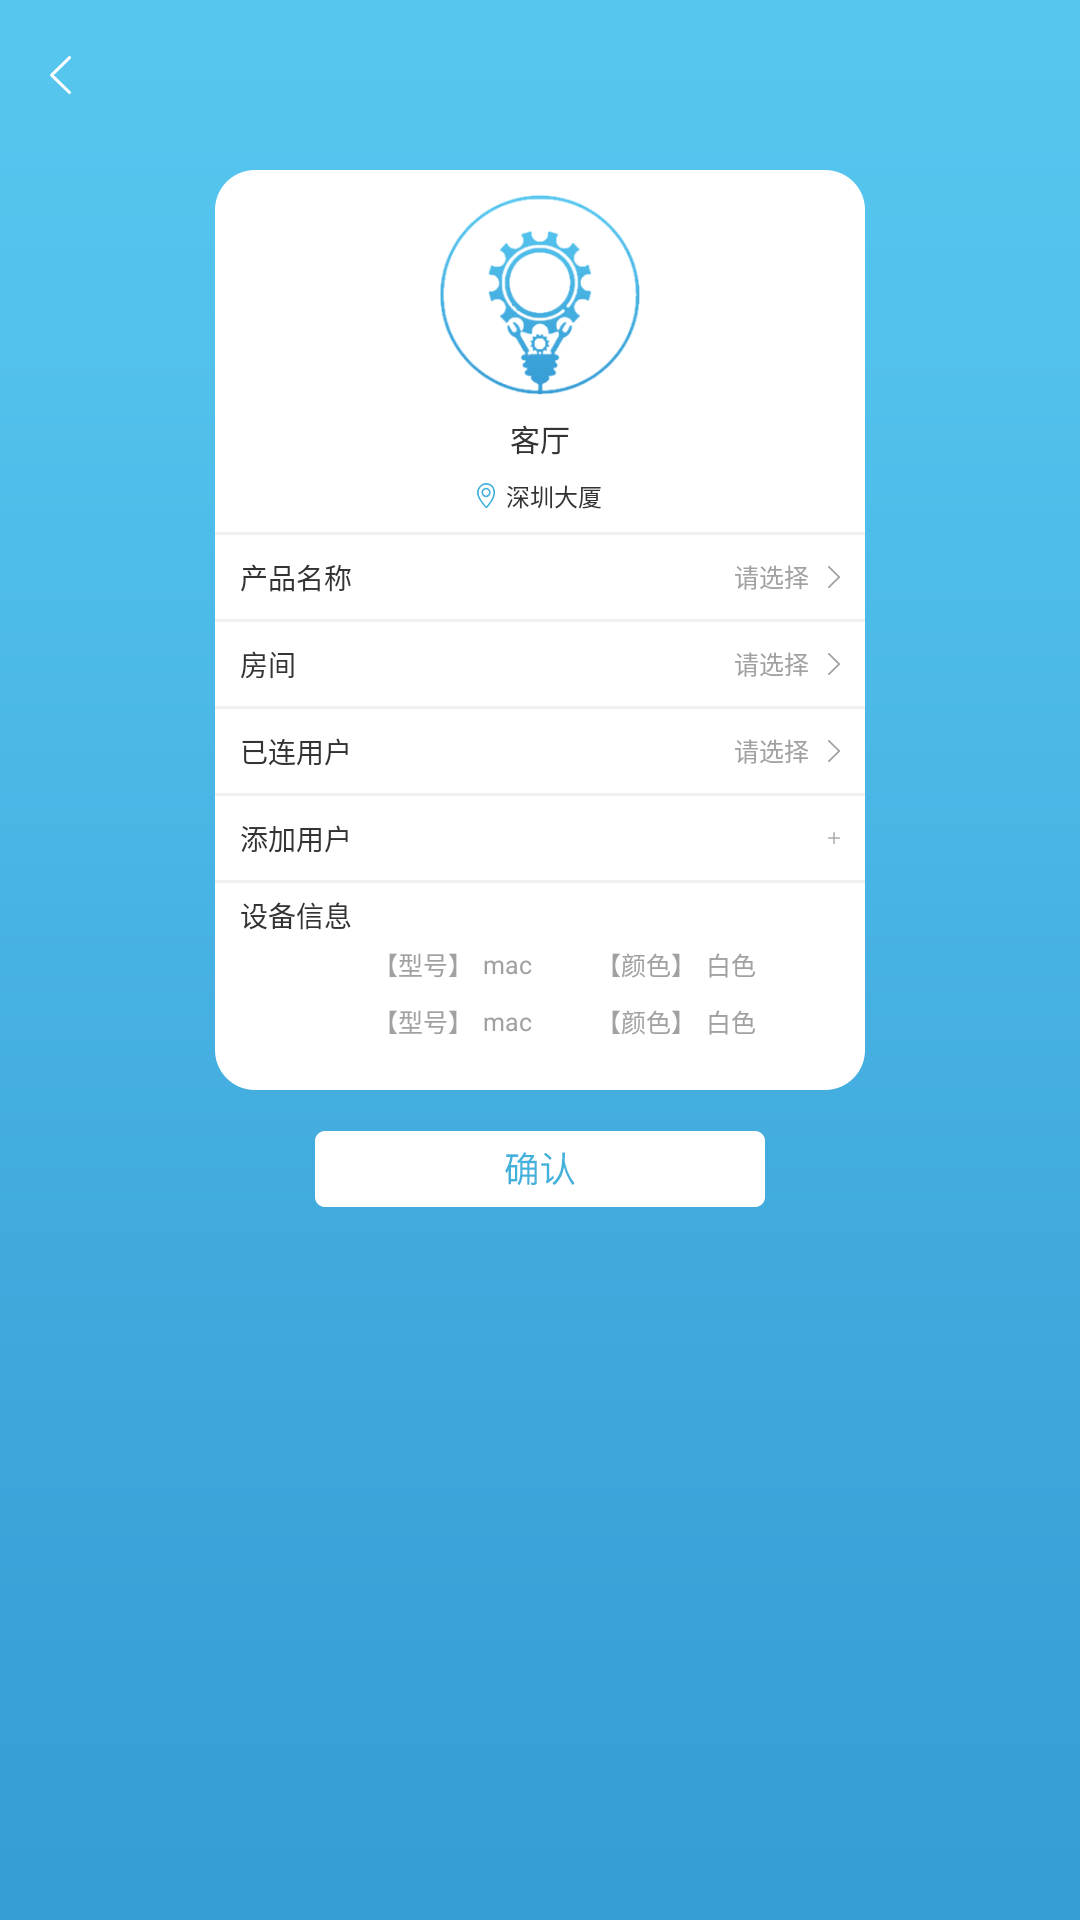

Named icons in this screenshot (1080w x 1920h) and their bounding boxes, (x1, y1, x2, y2):
mesh back: (50, 56, 71, 94)
